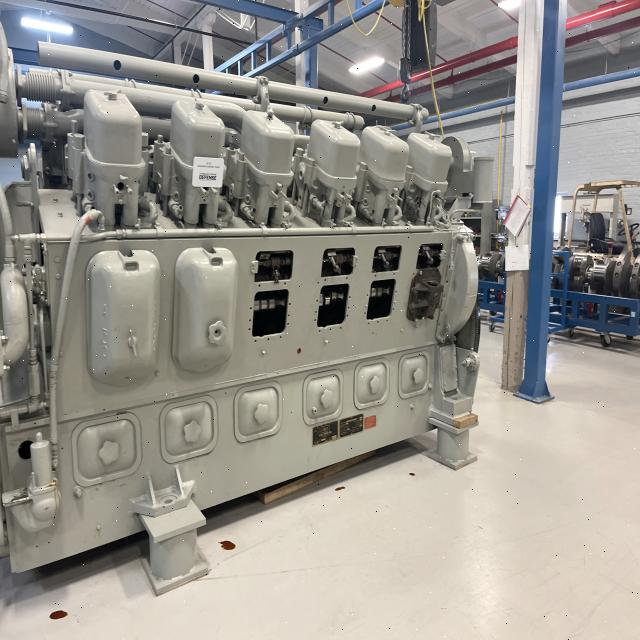Oil Leak: (49, 610, 68, 620), (220, 541, 235, 550), (335, 486, 345, 491), (409, 472, 415, 476)
